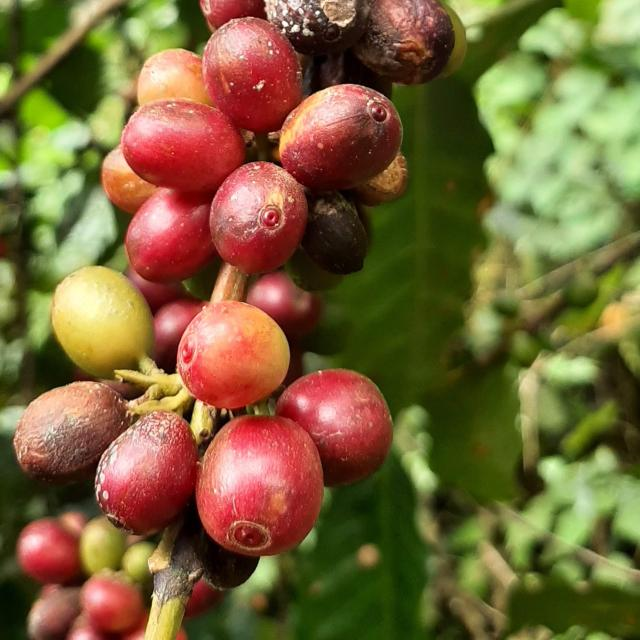green: (50, 266, 153, 379)
red: (195, 416, 323, 557), (275, 369, 393, 487), (279, 83, 403, 190), (94, 412, 198, 536), (12, 382, 129, 485), (120, 98, 246, 192), (202, 16, 302, 132), (210, 161, 308, 274), (124, 188, 217, 283), (353, 0, 456, 84), (302, 190, 368, 275), (202, 536, 259, 591), (284, 247, 343, 292)
yellow: (177, 300, 290, 410), (137, 48, 213, 105), (100, 145, 159, 214)
